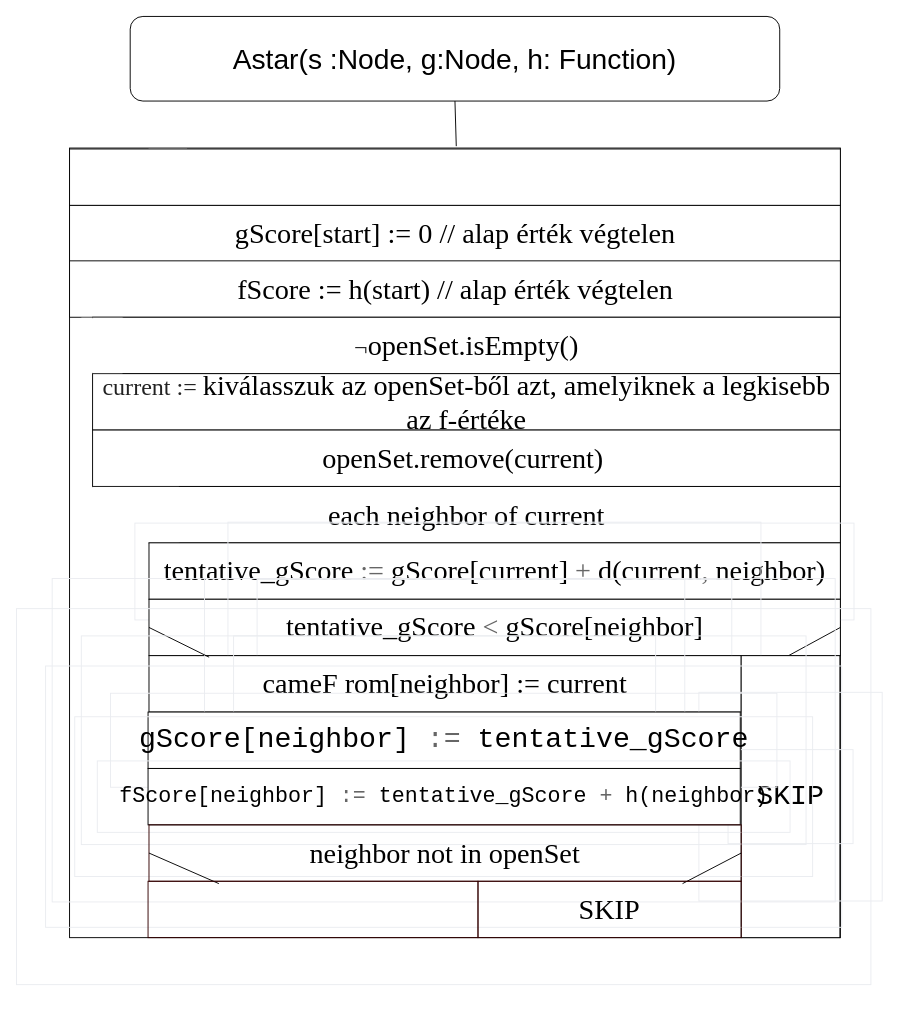
Image size: 899x1030. Some labels were removed from this diagram. The shapes that lost their labels are listed below. From the top down, each one's box as (x1, y1, x2, y2) in pixels, then its label:
(69, 148, 840, 205): openSet :={s} ; cameFrom :={}
(147, 880, 478, 938): openSet.add(neighbor)
